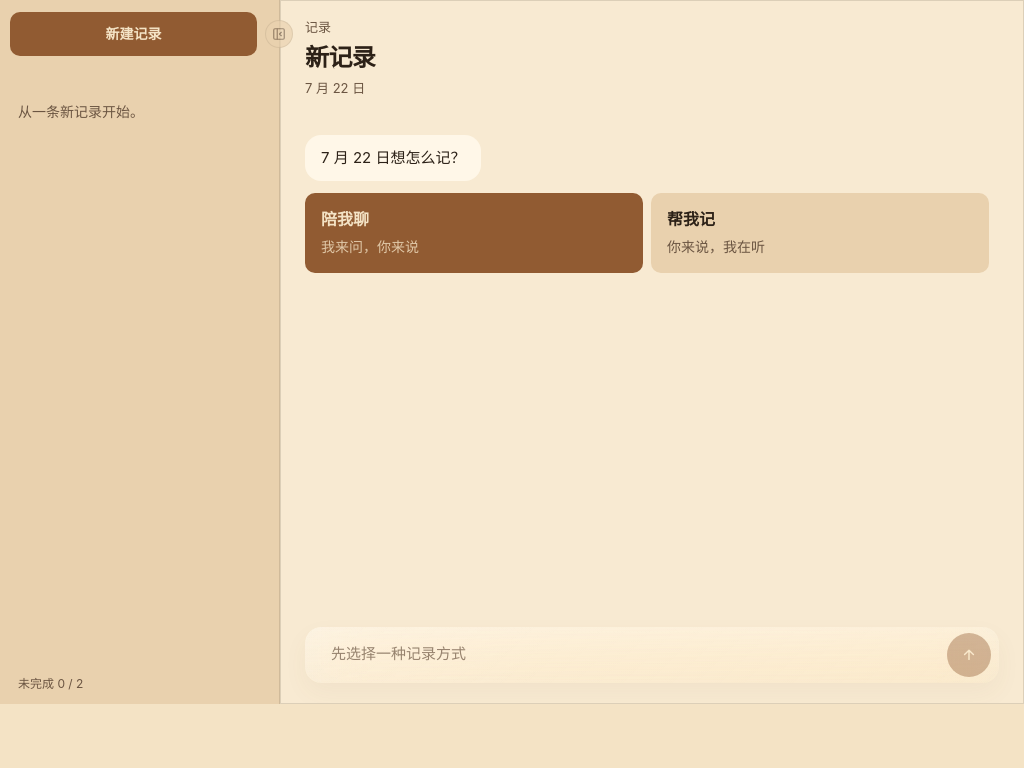
Test: EventCenteredInterviewWorkspace › uses the same toast and refreshes the sidebar when a concurrent start reaches the server limit
Click the button "陪我聊 我来问，你来说" at (345, 219), box [305,193,643,273]
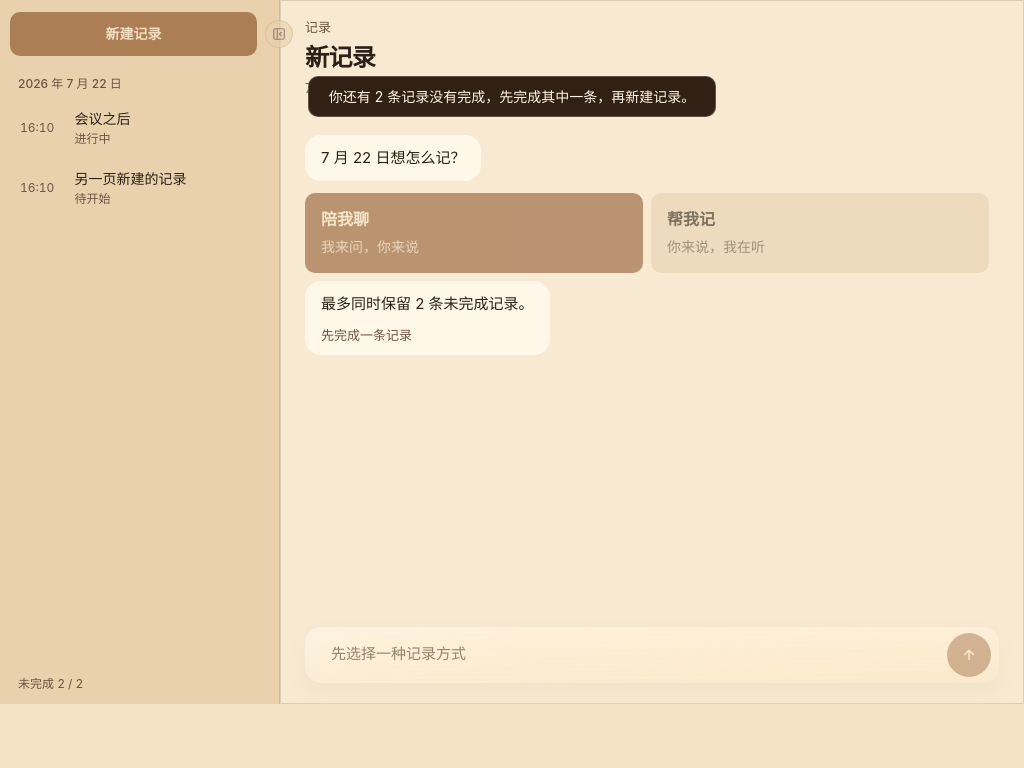
Expected: the text with test id "event-centered-unfinished-limit-toast" reads "你还有 2 条记录没有完成，先完成其中一条，再新建记录。", [329,88,695,105]
Expected: the text "未完成 2 / 2" is shown, [18,676,83,691]
